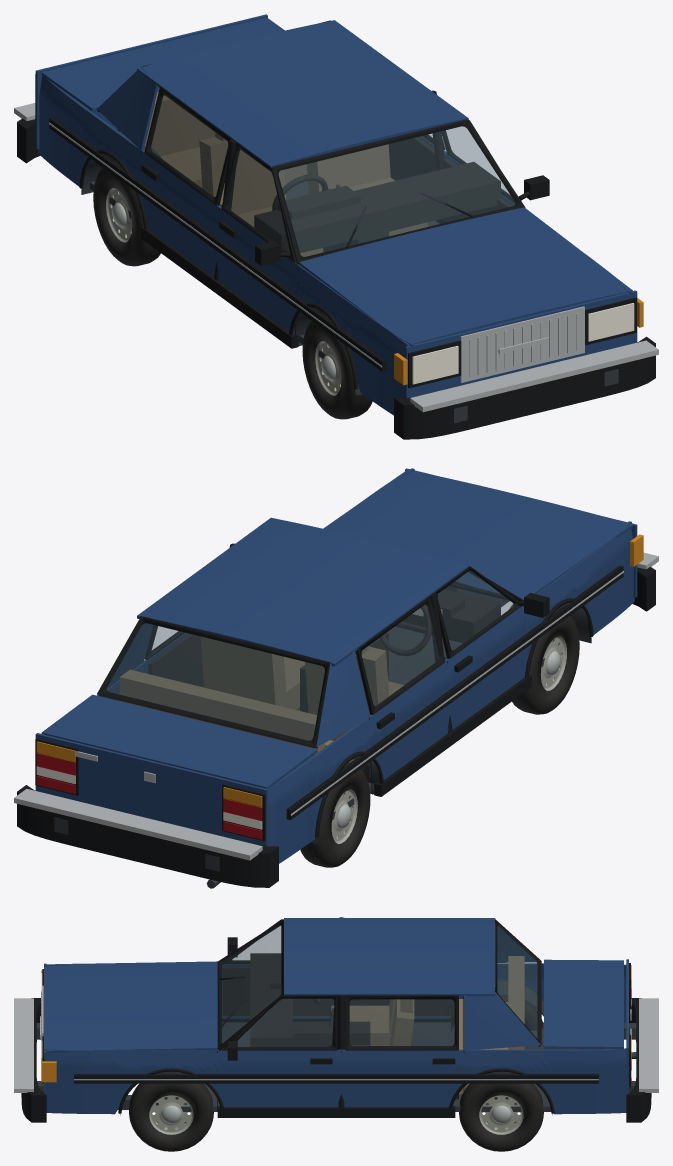
The model's file is tordal.glb.
3 views of the same model, one above another, from view 1: azimuth 30°, elevation 25°; view 2: azimuth 150°, elevation 25°; view 3: azimuth 270°, elevation 25° (orthographic). The views are drawn at different scales.
Parts seen in each view (by area): view 1: panel_RoofTordal, panel_hoodTordal, glass_FrontTordal, Interior Tordal Dashboard, panel_bumper_frontTordal, panel_BootTordal, panel_FrontWingLTordal, panel_RearQuarterLTordal, panel_TordalGrilleSurround, panel_TordalRubStripL, panel_BodyDoorRearLTordal, glass_BodyDoorRearLTordal (+27 smaller); view 2: panel_RoofTordal, panel_hoodTordal, glass_RearTordal, panel_BootTordal, panel_TordalRearPanel, panel_bumper_rearTordal, Interior Tordal RearBack, panel_RearQuarterLTordal, panel_FrontWingLTordal, panel_BodyDoorLTordal, panel_TordalRubStripL, glass_BodyDoorRearLTordal (+23 smaller); view 3: panel_RoofTordal, panel_hoodTordal, panel_BootTordal, panel_RearQuarterRTordal, panel_FrontWingRTordal, panel_BodyDoorRTordal, panel_BodyDoorRearRTordal, glass_BodyDoorRearRTordal, panel_TordalRubStripR, glass_FrontTordal, glass_BodyDoorRTordal, Tire_Marten_Carcass_FR (+38 smaller).
Boxes of the visible parts, left/top/right/bottom form: panel_RoofTordal: left=137, top=20, right=468, bottom=167; panel_hoodTordal: left=299, top=207, right=632, bottom=346; glass_FrontTordal: left=279, top=126, right=514, bottom=256; Interior Tordal Dashboard: left=254, top=162, right=500, bottom=253; panel_bumper_frontTordal: left=394, top=336, right=655, bottom=439; panel_BootTordal: left=41, top=17, right=284, bottom=111; panel_FrontWingLTordal: left=295, top=265, right=414, bottom=415; panel_RearQuarterLTordal: left=38, top=76, right=144, bottom=186; panel_TordalGrilleSurround: left=460, top=306, right=584, bottom=382; panel_TordalRubStripL: left=49, top=117, right=386, bottom=371; panel_BodyDoorRearLTordal: left=139, top=150, right=221, bottom=276; glass_BodyDoorRearLTordal: left=150, top=95, right=227, bottom=196; panel_RoofTordal: left=137, top=517, right=468, bottom=666; panel_hoodTordal: left=323, top=469, right=632, bottom=599; glass_RearTordal: left=107, top=623, right=324, bottom=740; panel_BootTordal: left=41, top=694, right=317, bottom=788; panel_TordalRearPanel: left=35, top=733, right=267, bottom=844; panel_bumper_rearTordal: left=17, top=785, right=278, bottom=887; Interior Tordal RearBack: left=119, top=669, right=324, bottom=762; panel_RearQuarterLTordal: left=261, top=718, right=372, bottom=863; panel_FrontWingLTordal: left=527, top=521, right=634, bottom=656; panel_BodyDoorLTordal: left=445, top=606, right=528, bottom=729; panel_TordalRubStripL: left=286, top=565, right=623, bottom=819; glass_BodyDoorRearLTordal: left=362, top=604, right=438, bottom=705; panel_RoofTordal: left=284, top=918, right=495, bottom=996; panel_hoodTordal: left=46, top=961, right=217, bottom=1053; panel_BootTordal: left=544, top=959, right=623, bottom=1049; panel_RearQuarterRTordal: left=464, top=1048, right=626, bottom=1114; panel_FrontWingRTordal: left=44, top=1048, right=217, bottom=1114; panel_BodyDoorRTordal: left=217, top=1049, right=341, bottom=1107; panel_BodyDoorRearRTordal: left=341, top=1049, right=463, bottom=1107; glass_BodyDoorRearRTordal: left=350, top=999, right=454, bottom=1045; panel_TordalRubStripR: left=74, top=1074, right=598, bottom=1083; glass_FrontTordal: left=222, top=925, right=280, bottom=1043; glass_BodyDoorRTordal: left=238, top=999, right=334, bottom=1046; Tire_Marten_Carcass_FR: left=129, top=1072, right=213, bottom=1151.
Bounding box in the file's own units: 2.1 × 1.37 × 5.16.
